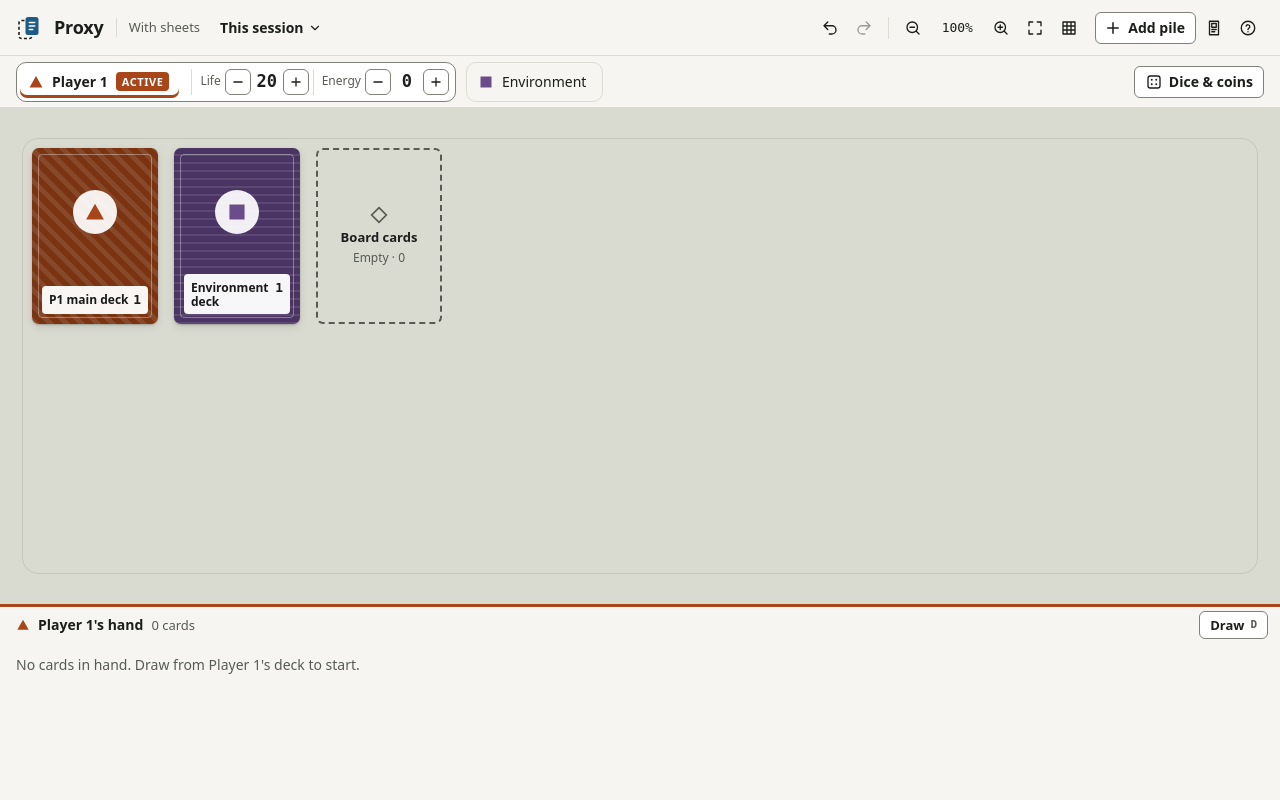
Test case: CD-12 Reload all › keeps the last good data of a pile that fails, and says so
expect the button with aria-label "Environment deck, 1 card" is shown: met, box top-left (174, 148), bottom-right (300, 324)
Click the button "This session". click: (271, 28)
box: top-left (212, 12), bottom-right (330, 44)
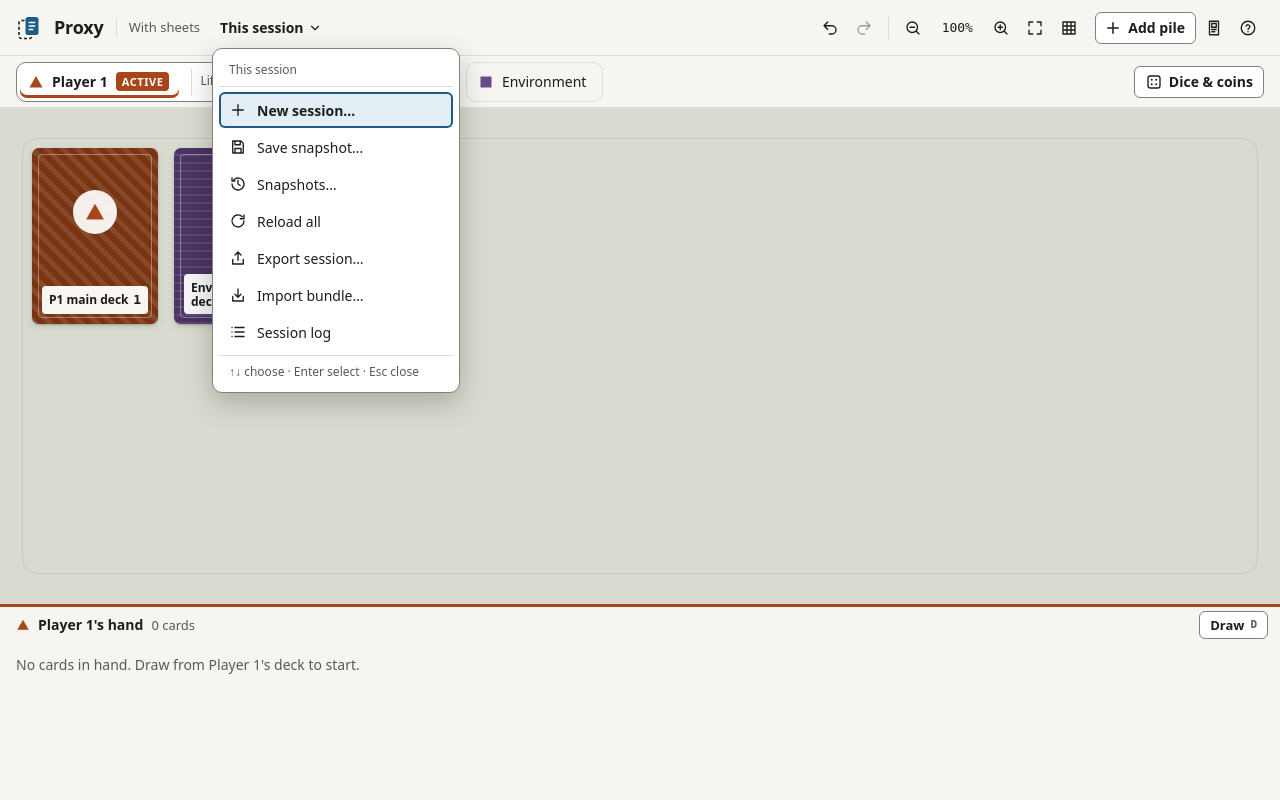
Click the menu item "Reload all". click: (336, 221)
box: top-left (219, 203), bottom-right (453, 239)
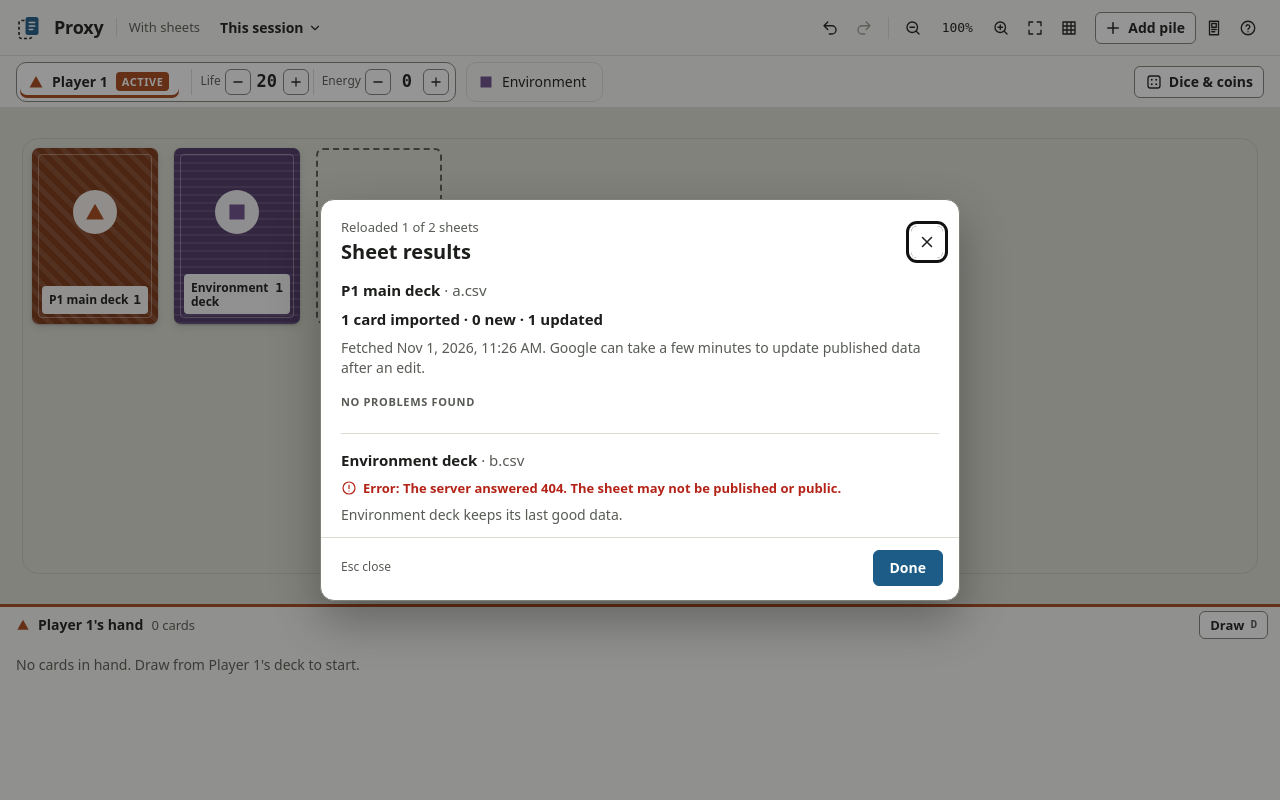
expect the button with aria-label "Environment deck, 1 card" is shown: met, box top-left (174, 148), bottom-right (300, 324)
expect the dialog "Sheet results" shows "Environment deck keeps its last good data.": met, box top-left (320, 199), bottom-right (960, 601)
expect the dialog "Sheet results" shows "Reloaded 1 of 2 sheets": met, box top-left (341, 218), bottom-right (479, 236)
